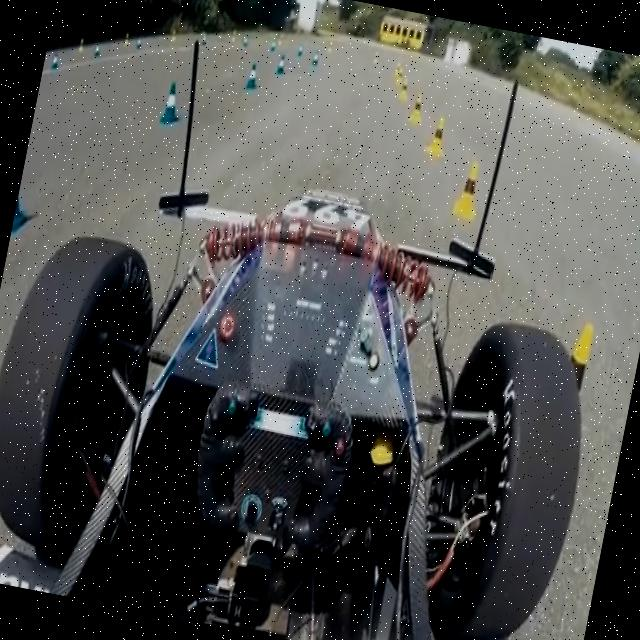blue_cone: (10, 156, 40, 244), (160, 80, 188, 129), (244, 62, 262, 93)
yellow_cone: (452, 160, 486, 222), (423, 112, 452, 160), (407, 90, 428, 128)
